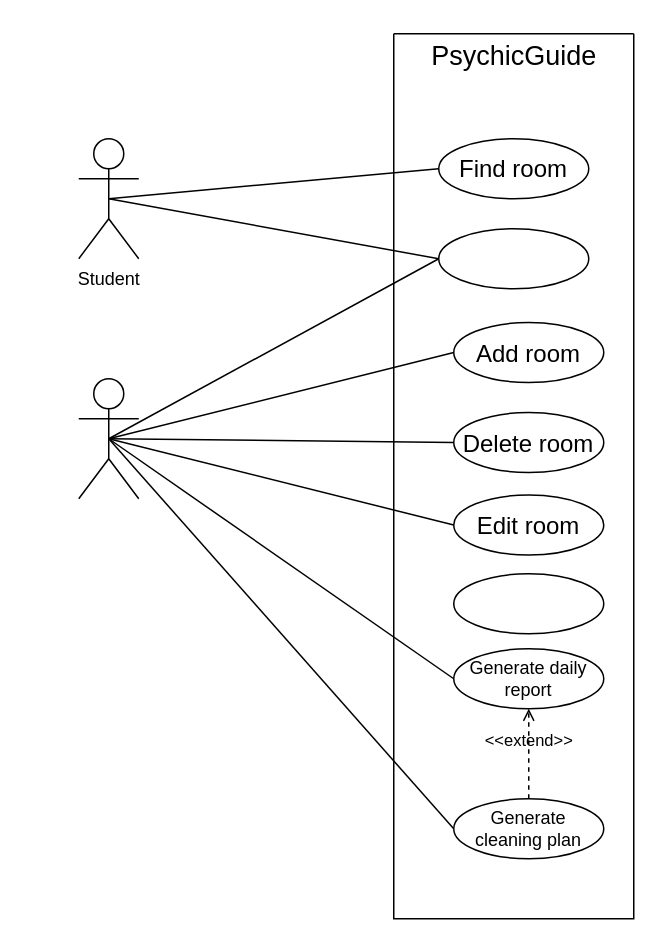
Some shapes in this 660 by 945 pixel diagram are drawn without their labels. The box of each missing label's shape, as (x1, y1, x2, y2) in pixels:
Add location: (452, 572, 604, 634)
Facility management: (77, 377, 139, 499)
Receive notification: (437, 227, 589, 289)
